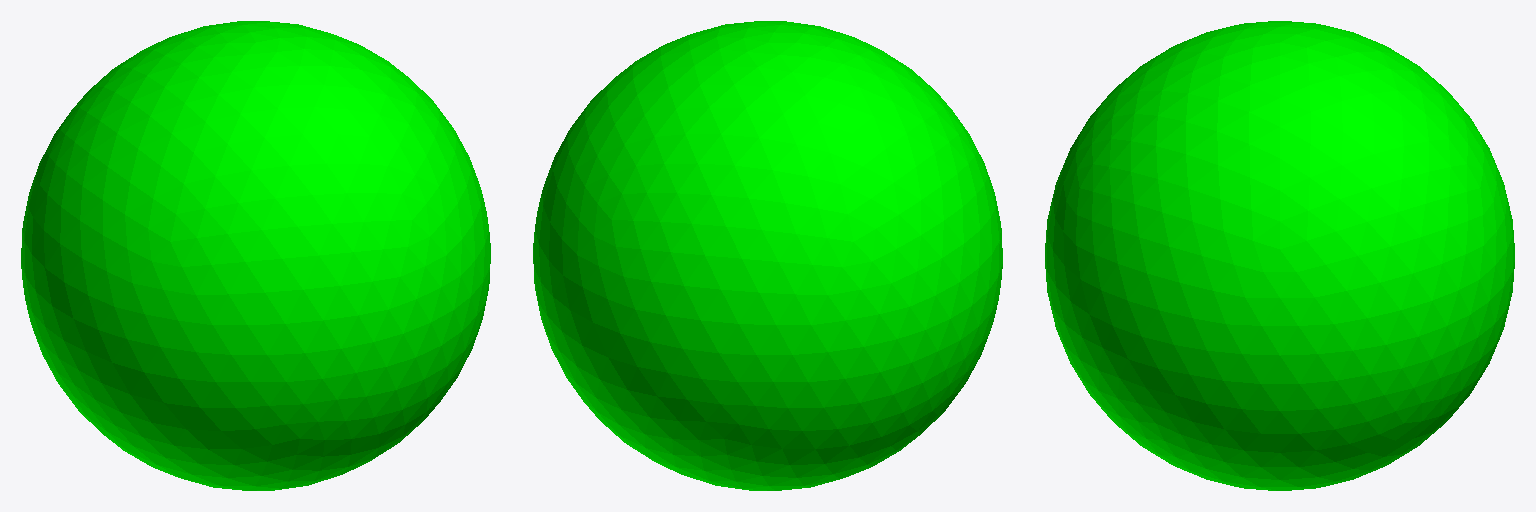
File: 0_2_ball_green_diffuse.obj
3 renders of one model, left to right at view 1: azimuth 30°, elevation 25°; view 2: azimuth 150°, elevation 25°; view 3: azimuth 270°, elevation 25°, orthographic.
Visible parts, largest first — view 1: Icosphere; view 2: Icosphere; view 3: Icosphere.
Part boxes in pixels (x1,y1,x2,y2): Icosphere: (21, 21, 490, 490); Icosphere: (533, 21, 1002, 490); Icosphere: (1045, 21, 1514, 490).
Size of the model in its own units: 0.4 by 0.4 by 0.4.